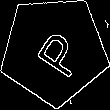P_NW: (24, 21, 84, 80)
